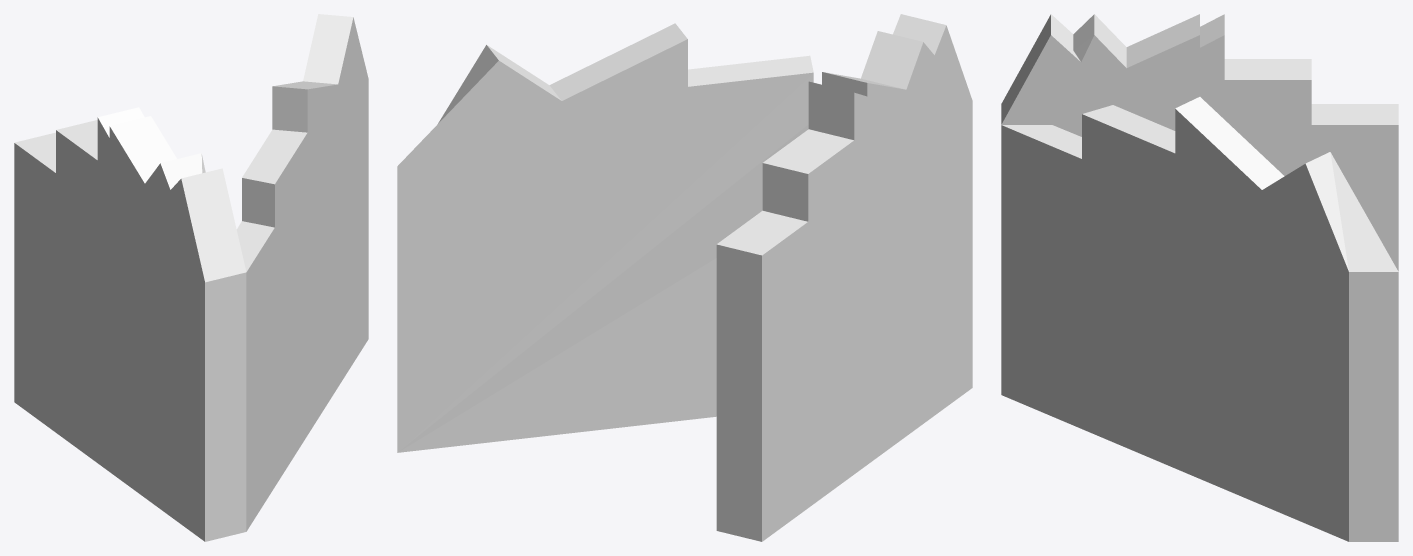
The picture shows the model from 3 angles, left to right: view 1: azimuth 30°, elevation 25°; view 2: azimuth 150°, elevation 25°; view 3: azimuth 270°, elevation 25°; orthographic projection. The views are drawn at different scales.
Bounding box in the file's own units: 128 × 128 × 128.
Materials: 1 (1 with a texture image).
